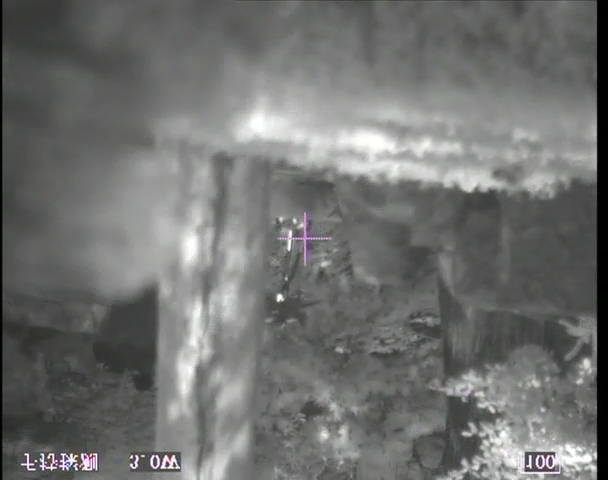my: (276, 294, 284, 303)
